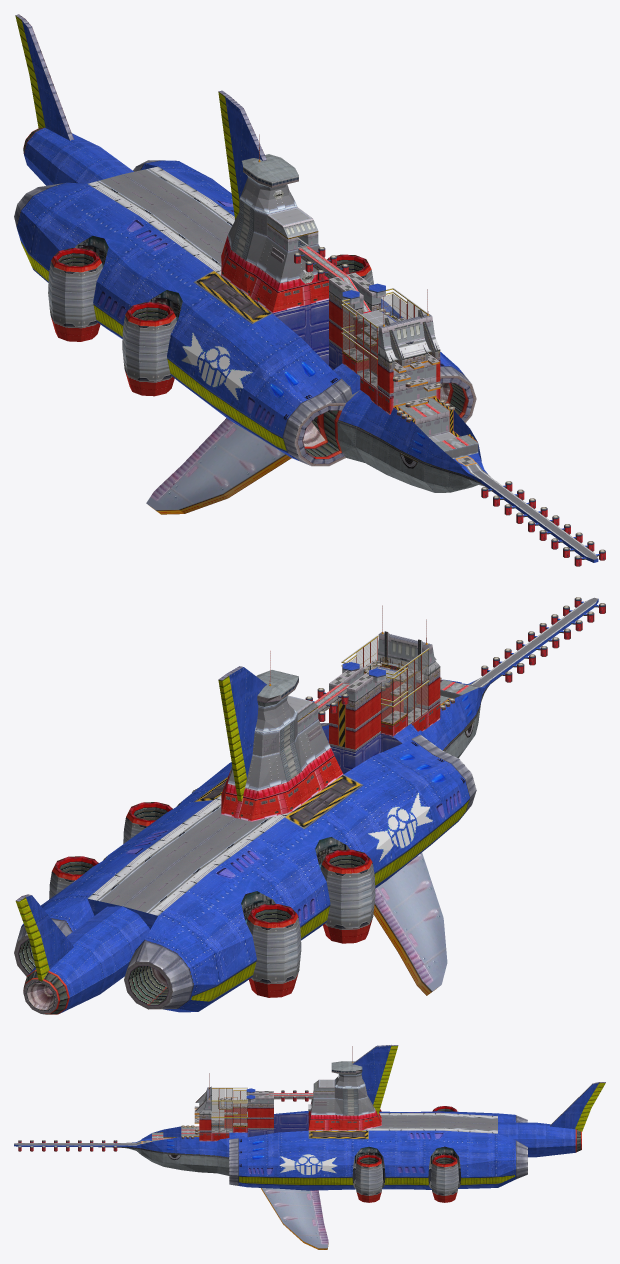
File: Big Ship.obj
3 renders of one model, top to bottom at view 1: azimuth 30°, elevation 25°; view 2: azimuth 150°, elevation 25°; view 3: azimuth 270°, elevation 25°, orthographic. The views are drawn at different scales.
Bounding box in the file's own units: 283 × 316 × 990.
Materials: 43 (41 with a texture image).
